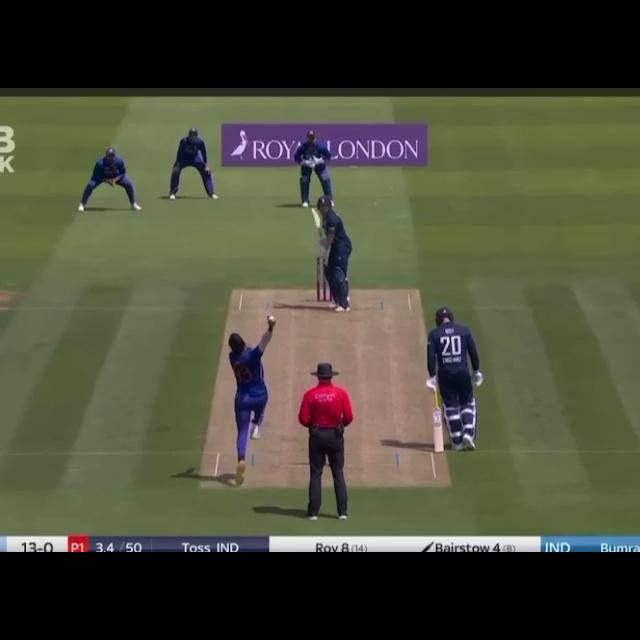umpire: (296, 362, 355, 526)
